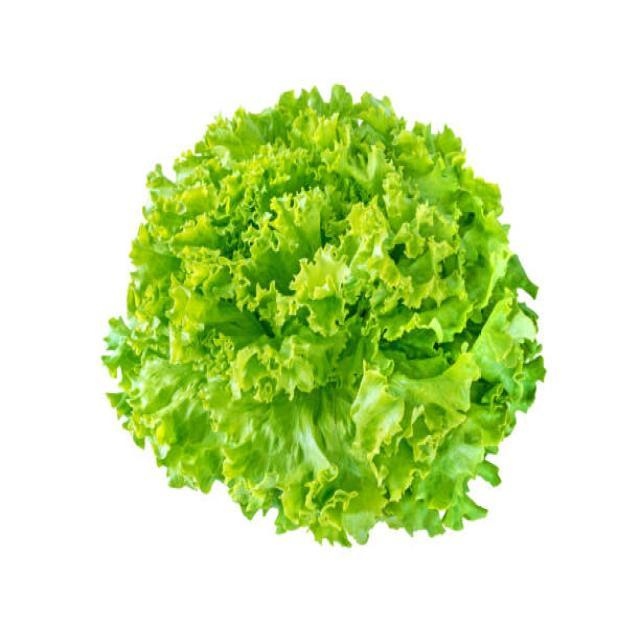Lettuce-Ready-to-Harvest: (101, 77, 546, 541)
